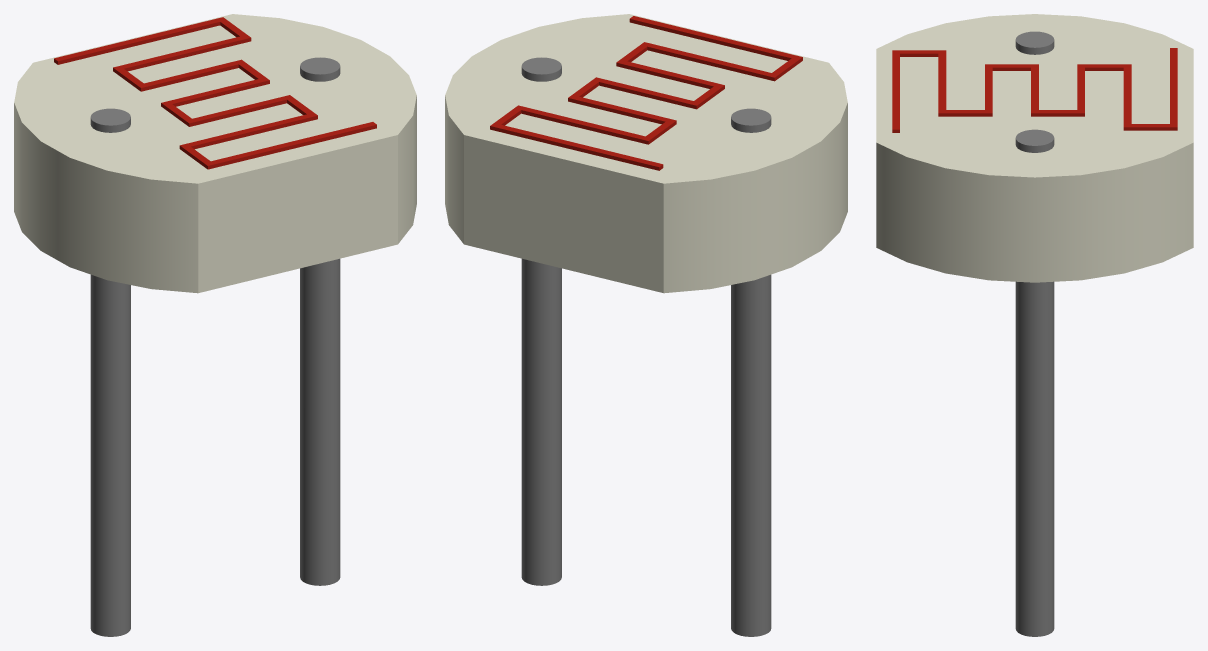
The model's file is OptoDevice__R_LDR_5.0x4.1mm_P3mm_Vertical.glb.
3 renders of one model, left to right at view 1: azimuth 30°, elevation 25°; view 2: azimuth 150°, elevation 25°; view 3: azimuth 270°, elevation 25°, orthographic. The views are drawn at different scales.
Parts seen in each view (by area): view 1: R_LDR_5.0x4.1mm_P3mm_Vertical; view 2: R_LDR_5.0x4.1mm_P3mm_Vertical; view 3: R_LDR_5.0x4.1mm_P3mm_Vertical.
Part boxes in pixels (bbox=[...]): R_LDR_5.0x4.1mm_P3mm_Vertical: bbox=[14, 14, 416, 636]; R_LDR_5.0x4.1mm_P3mm_Vertical: bbox=[445, 14, 847, 636]; R_LDR_5.0x4.1mm_P3mm_Vertical: bbox=[876, 14, 1193, 636].
Size of the model in its own units: 0.005 by 0.007 by 0.0041.
